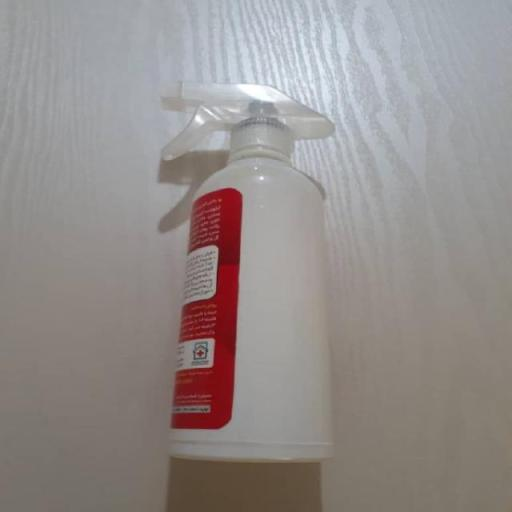plastic: (154, 78, 340, 468)
